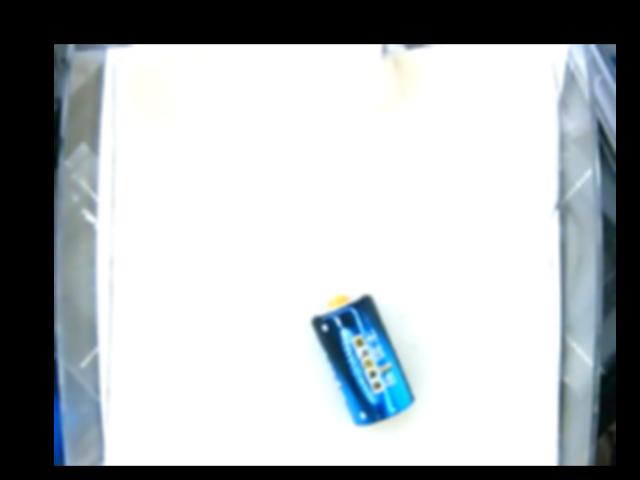Battery: (310, 294, 413, 426)
